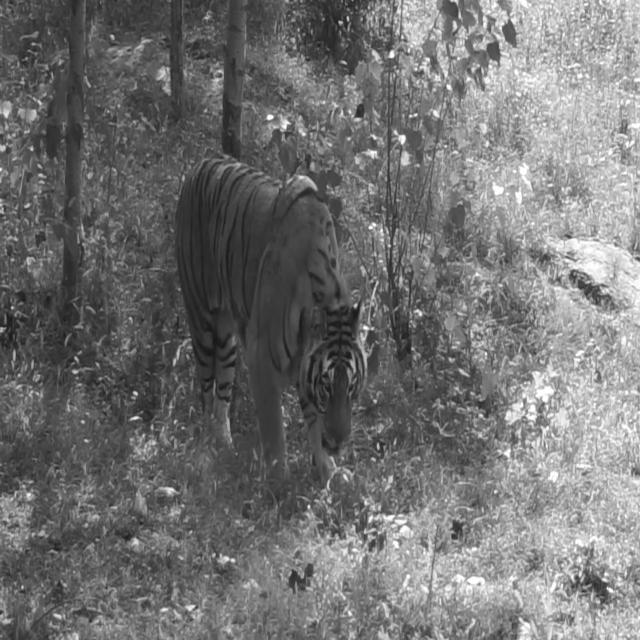Tiger: (174, 150, 367, 490)
